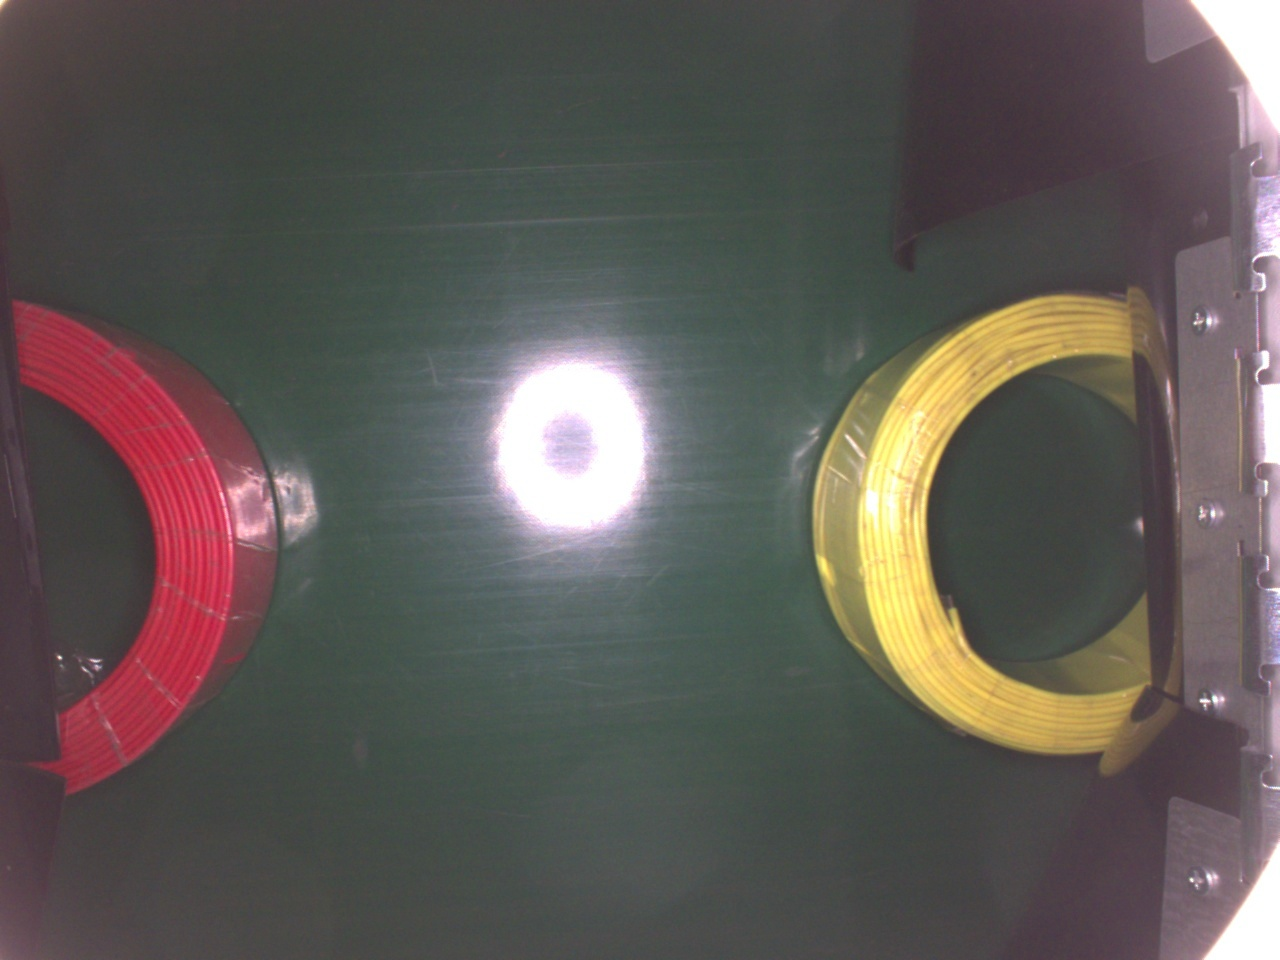red: (10, 292, 278, 799)
yellow: (809, 290, 1159, 756)
